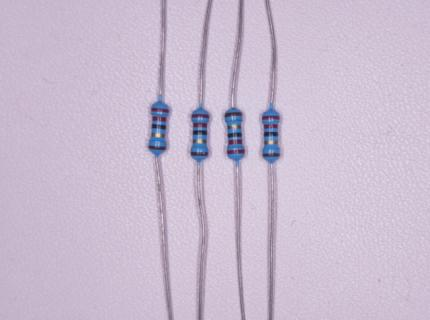Black band: (151, 123, 167, 130), (192, 130, 208, 136), (228, 132, 243, 138), (263, 132, 278, 137)
Brown band: (224, 112, 243, 118), (148, 145, 167, 151), (262, 153, 281, 158), (190, 151, 209, 156)
Gold band: (150, 132, 165, 138), (192, 139, 207, 144), (227, 125, 242, 130), (264, 140, 278, 145)
Red band: (151, 107, 170, 113), (227, 149, 245, 155), (152, 116, 167, 122), (262, 115, 280, 120), (227, 140, 243, 145), (263, 124, 279, 129), (191, 114, 210, 118), (193, 123, 208, 128)
